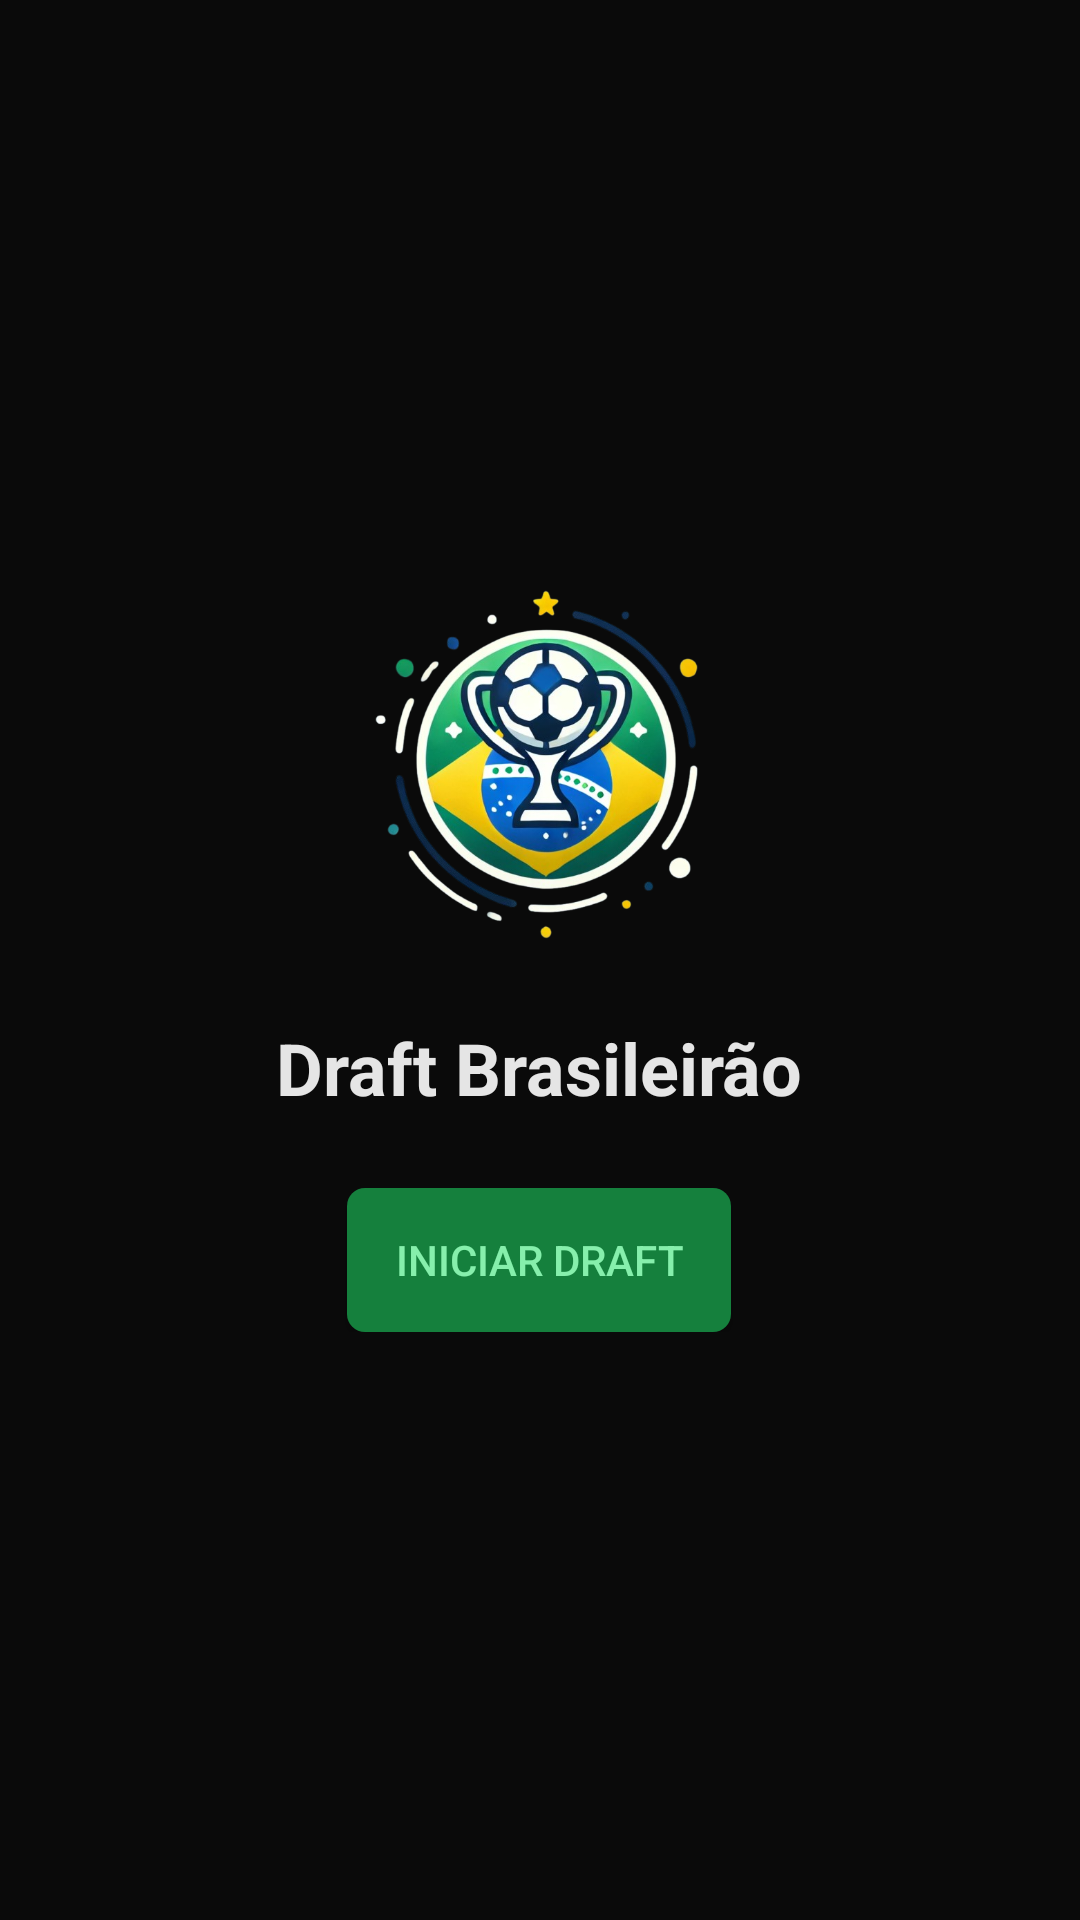

Named icons in this screenshot (1080 × 1920) and their bounding boxes, region(x1, y1, x2, y2):
Ícone do aplicativo: region(375, 591, 698, 938)
